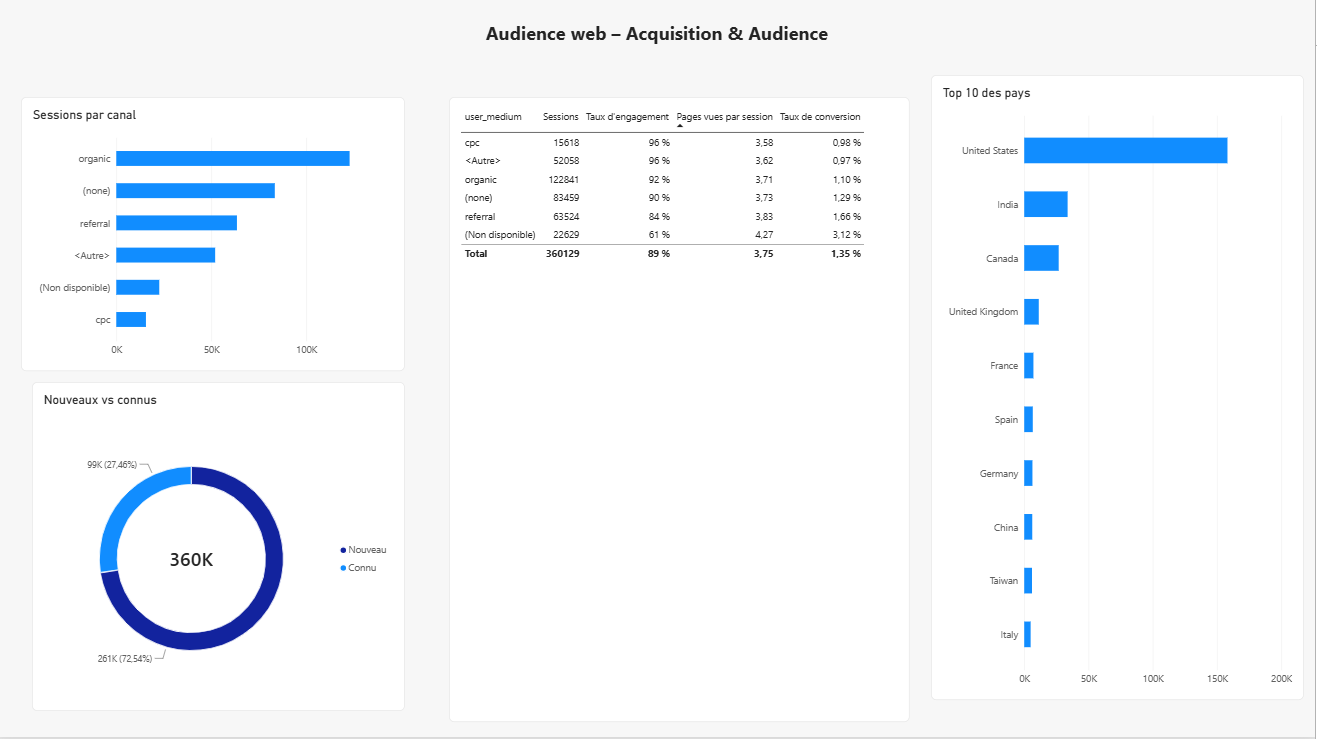

The dashboard page shown, as its layout file describes it:
{"tool":"powerbi","page":{"name":"Acquisition & Audience","canvas":[1920,1080],"ordinal":1},"visuals":[{"type":"clusteredBarChart","title":"Sessions par canal","fields":{"Category":["sessions.user_medium"],"Y":["sessions.Sessions"]},"box":[32,144,560,400],"z":0},{"type":"tableEx","fields":{"Values":["sessions.user_medium","sessions.Sessions","sessions.Taux d'engagement","sessions.Pages vues par session","sessions.Taux de conversion"]},"box":[656,144,672,912],"z":1000},{"type":"barChart","title":"Top 10 des pays","fields":{"Category":["sessions.country"],"Y":["sessions.Sessions"]},"box":[1360,112,544,912],"z":3000},{"type":"donutChart","title":"Nouveaux vs connus","fields":{"Category":["sessions.type_visiteur"],"Y":["sessions.Sessions"]},"box":[48,560,544,480],"z":3001},{"type":"textbox","box":[0,32,1920,80],"z":3002}]}

Visuals, with their boxes in screenshot pixels (x1, y1, x2, y2), scaled from the page's 1920x1080 canvas onto the 1317x739 screenshot:
"Sessions par canal" clusteredBarChart: (22,99,406,372)
tableEx - sessions.user_medium x sessions.Sessions: (450,99,911,723)
"Top 10 des pays" barChart: (933,77,1306,701)
"Nouveaux vs connus" donutChart: (33,383,406,712)
textbox: (0,22,1316,77)
